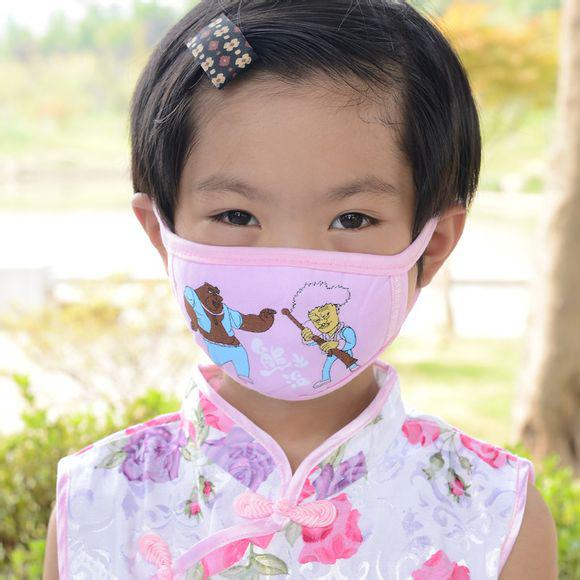OK: (171, 165, 412, 404)
